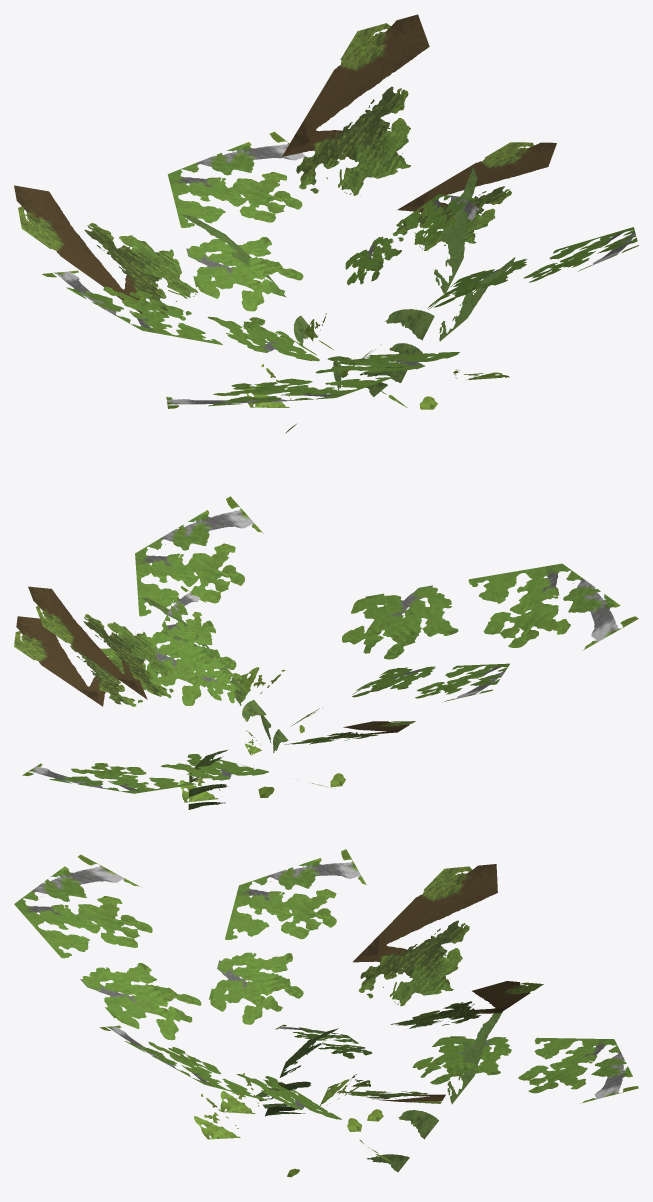
The model's file is Plante_05.fbx.
The picture shows the model from 3 angles, top to bottom: view 1: azimuth 30°, elevation 25°; view 2: azimuth 150°, elevation 25°; view 3: azimuth 270°, elevation 25°; orthographic projection. The views are drawn at different scales.
Visible parts, largest first — view 1: Plante_05; view 2: Plante_05; view 3: Plante_05.
Boxes of the visible parts, box(x1,y1,x2,y2) form: Plante_05: box(14, 14, 638, 433); Plante_05: box(14, 496, 638, 809); Plante_05: box(14, 849, 638, 1177).
Bounding box in the file's own units: 2.4 × 1.14 × 2.61.
